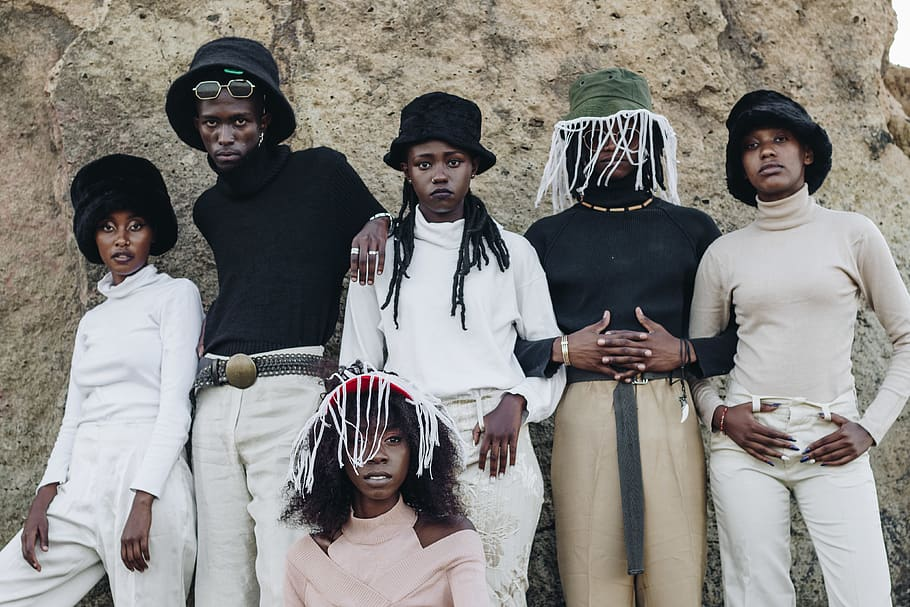person: (695, 94, 875, 284), (160, 50, 328, 249), (376, 84, 523, 274), (66, 161, 187, 375)
